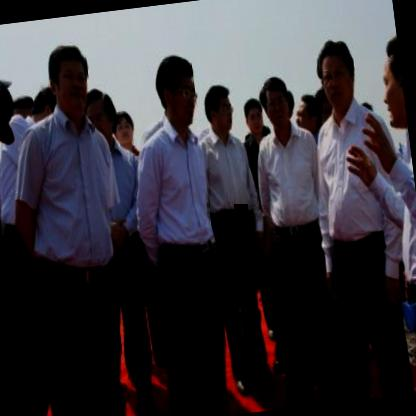head: (150, 49, 204, 134), (42, 37, 95, 118), (311, 34, 362, 116), (372, 29, 407, 126), (81, 84, 117, 148), (258, 72, 296, 132), (200, 81, 238, 141), (26, 82, 64, 138), (293, 86, 325, 140), (112, 108, 140, 155), (241, 95, 268, 140)
